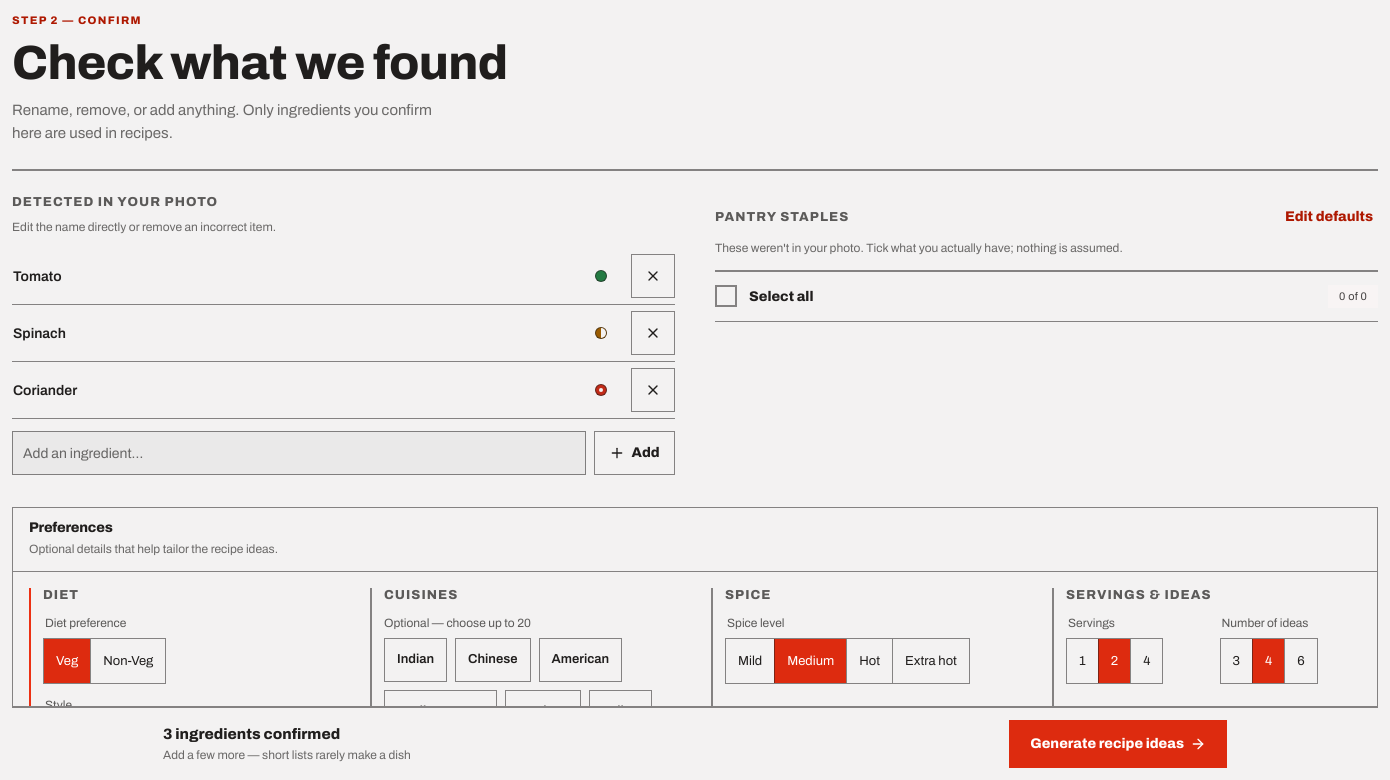
Scenario: ConfirmScreen confidence indicators › dismisses confidence details after an outside press
Click the button named "Confidence: low, 59 percent". click: (601, 390)
box: [579,368,623,412]
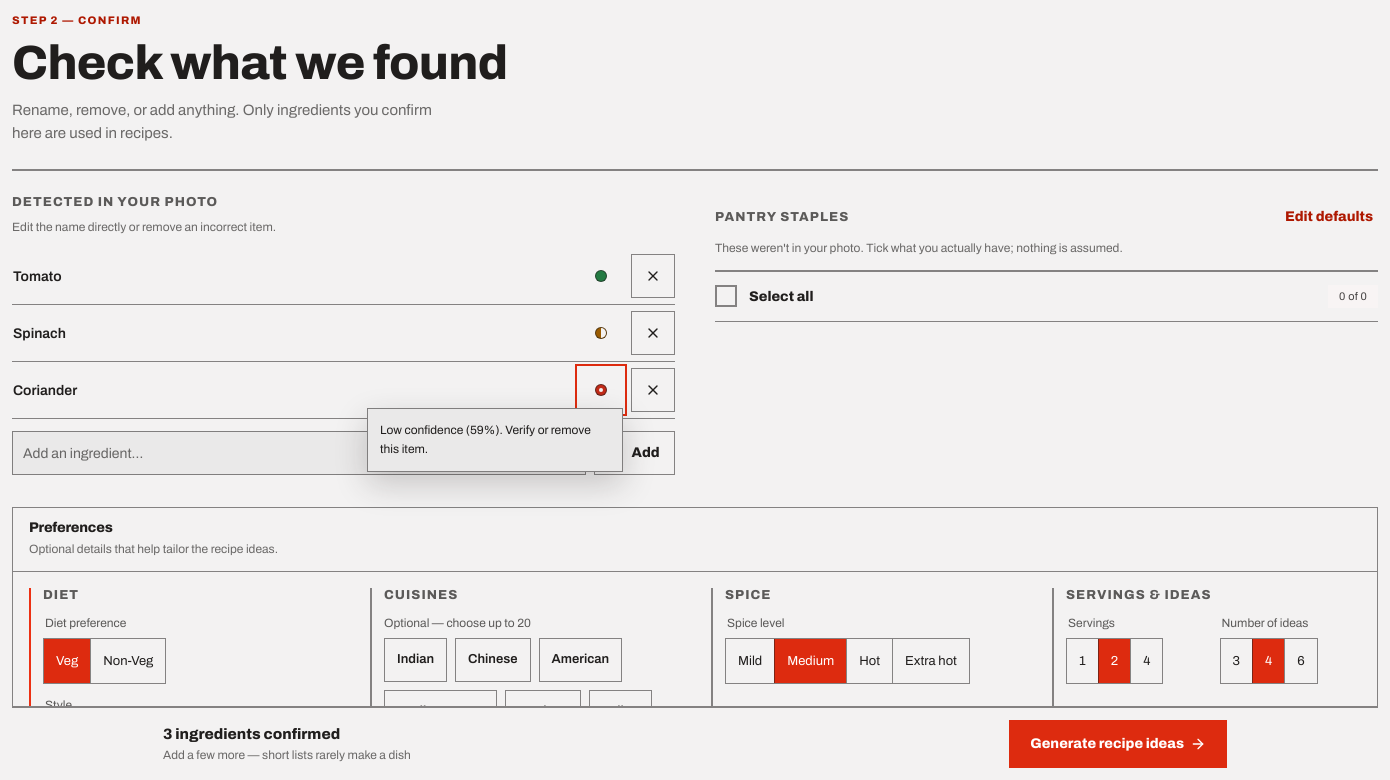
expect the tooltip reads "Low confidence (59%). Verify or remove this item.": met, box [380,423,591,456]
Click the heading "Check what we found". click: (260, 63)
box: [12,37,507,89]
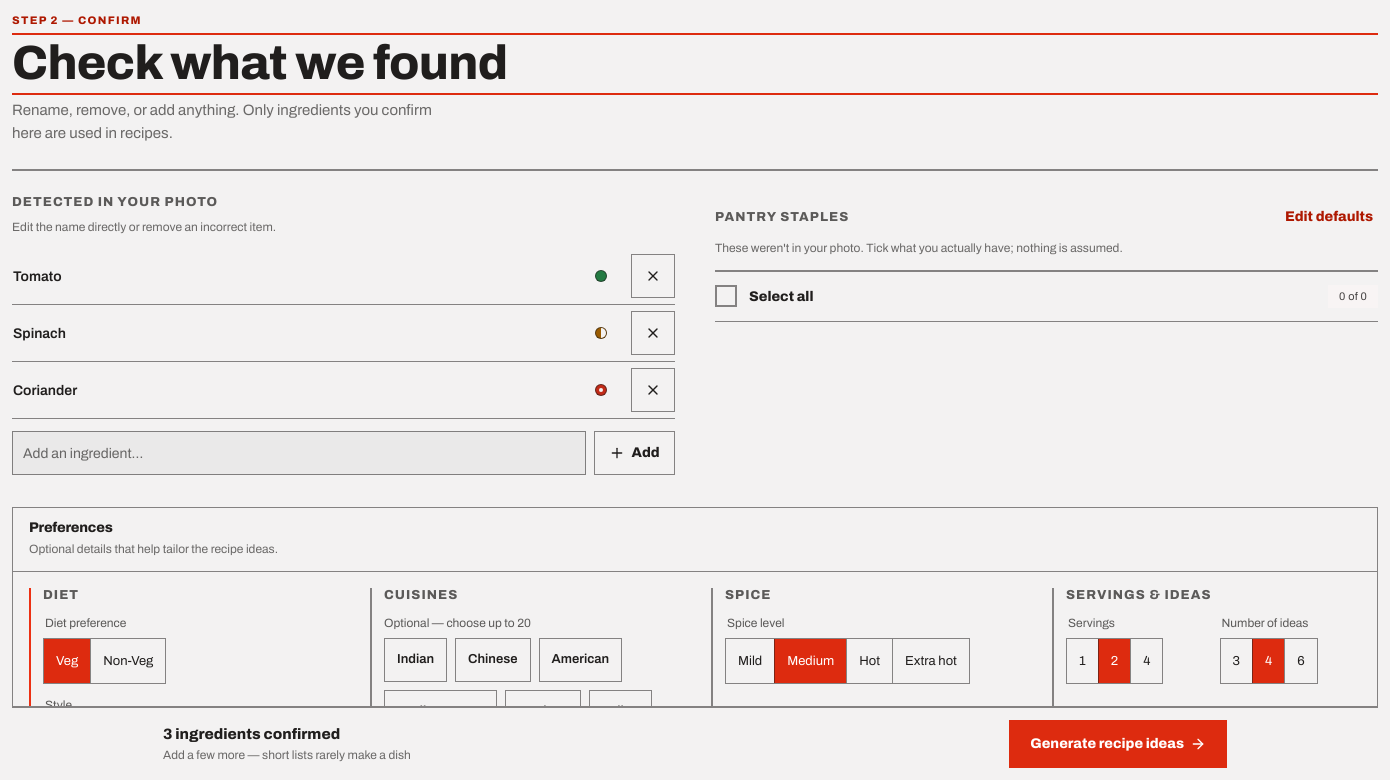
expect the button named "Confidence: low, 59 percent" is collapsed: met, box [579,368,623,412]
expect the tooltip "Low confidence (59%). Verify or remove this item." is gone: met
